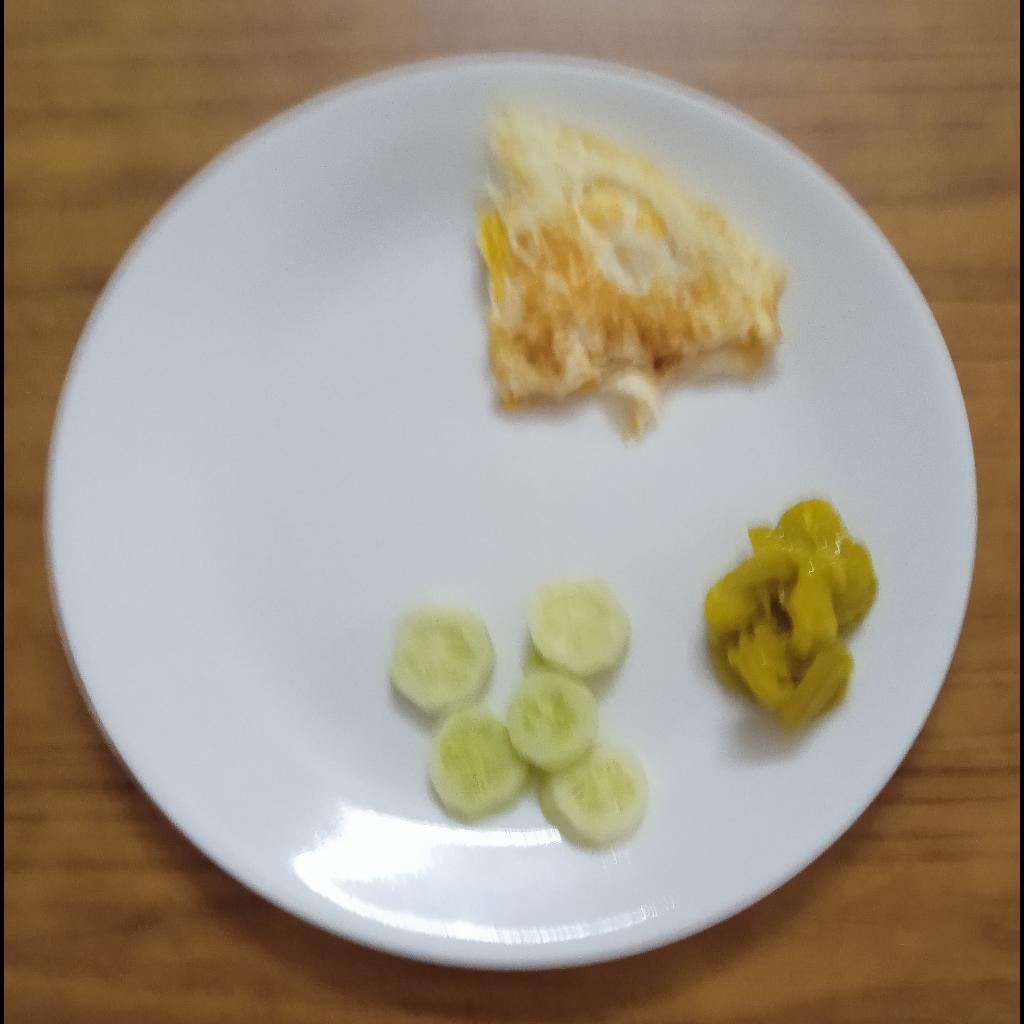cucumber: (390, 583, 650, 844)
egg-poached: (473, 94, 787, 438)
lau: (702, 496, 882, 725)
